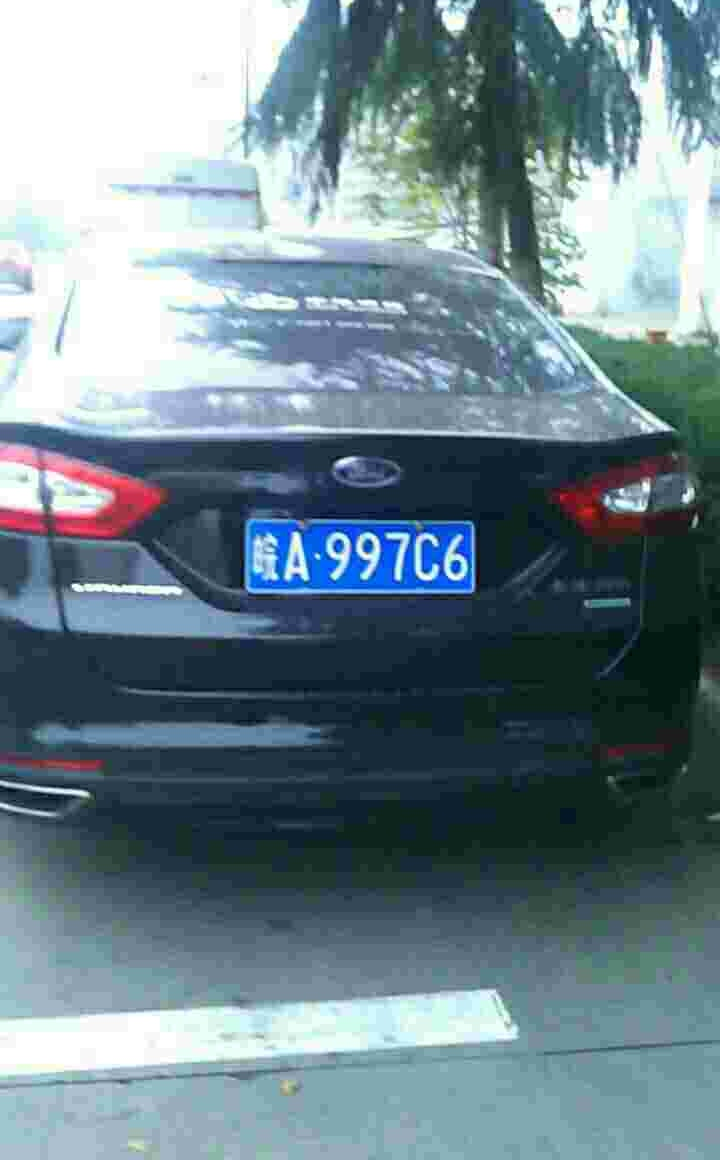license_plate: (250, 517, 477, 598)
